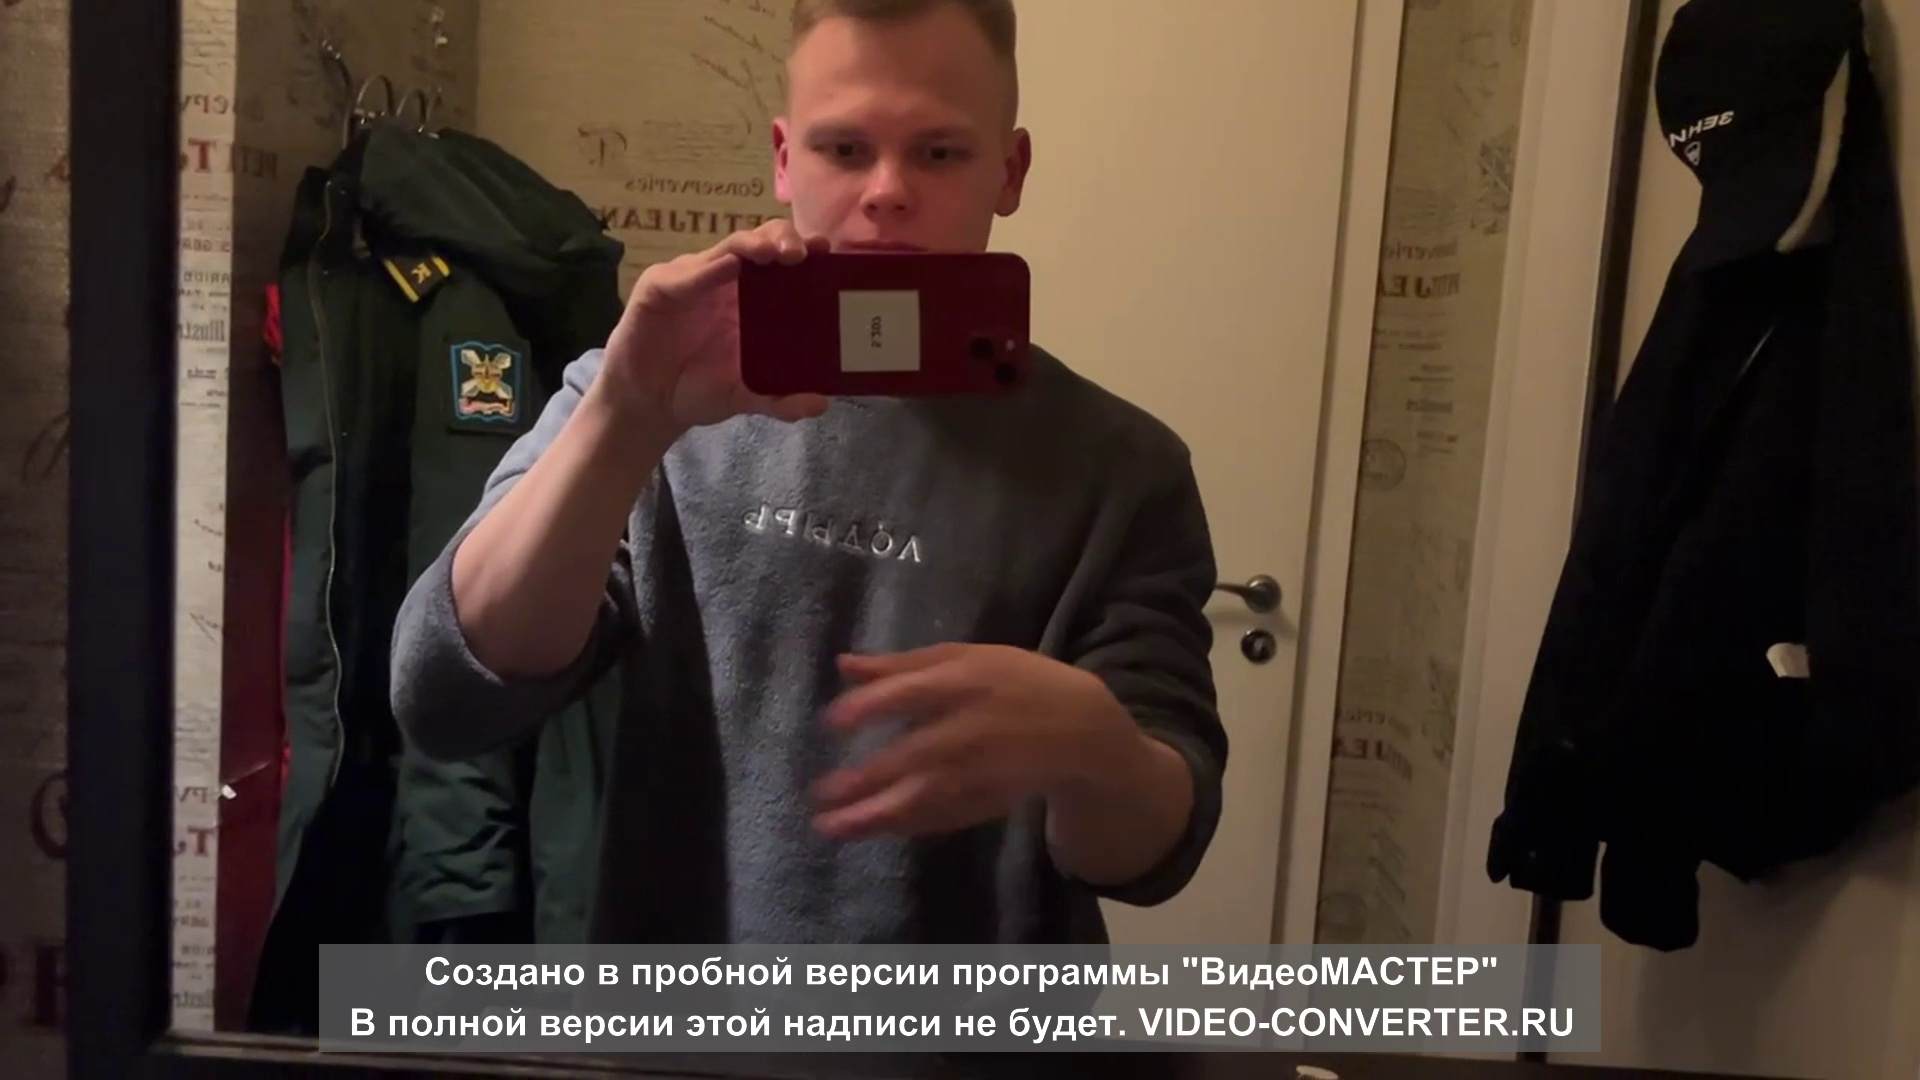Кисть: (808, 641, 1062, 845)
